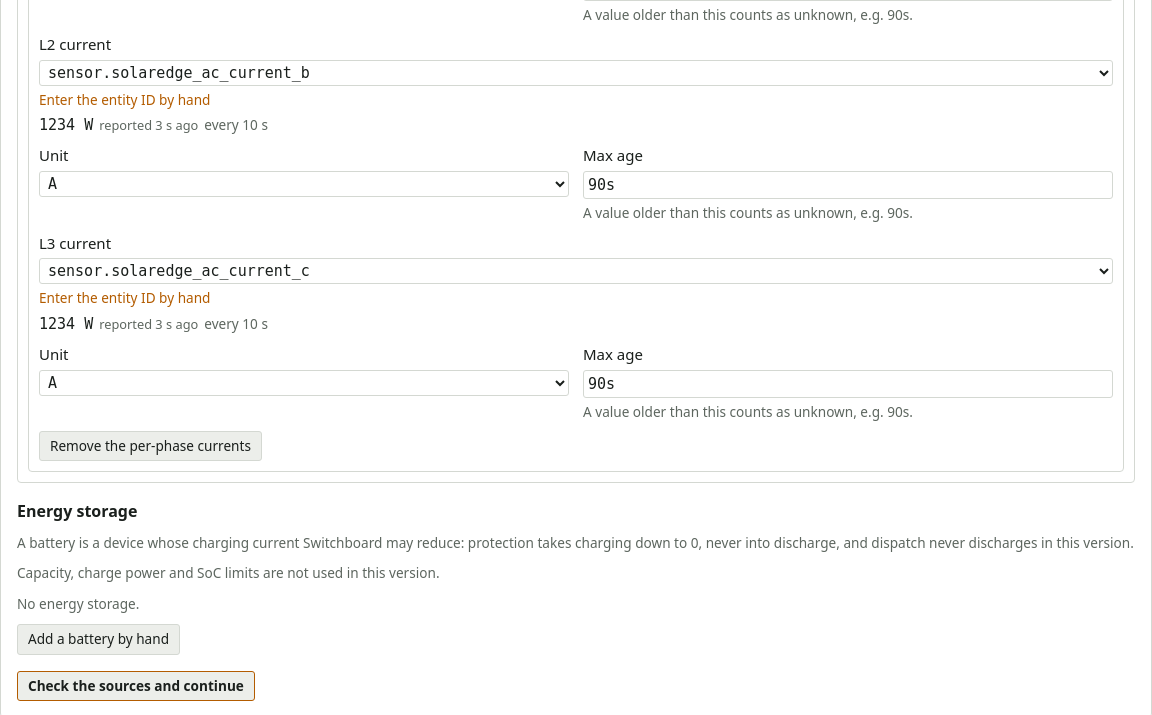
Test: check and continue › continue is refused naming the failed field
The width and height of the screenshot is (1152, 715).
(page scrolled)
Click the button "Check the sources and continue" at (136,686), box [17, 671, 255, 701]
(page scrolled)
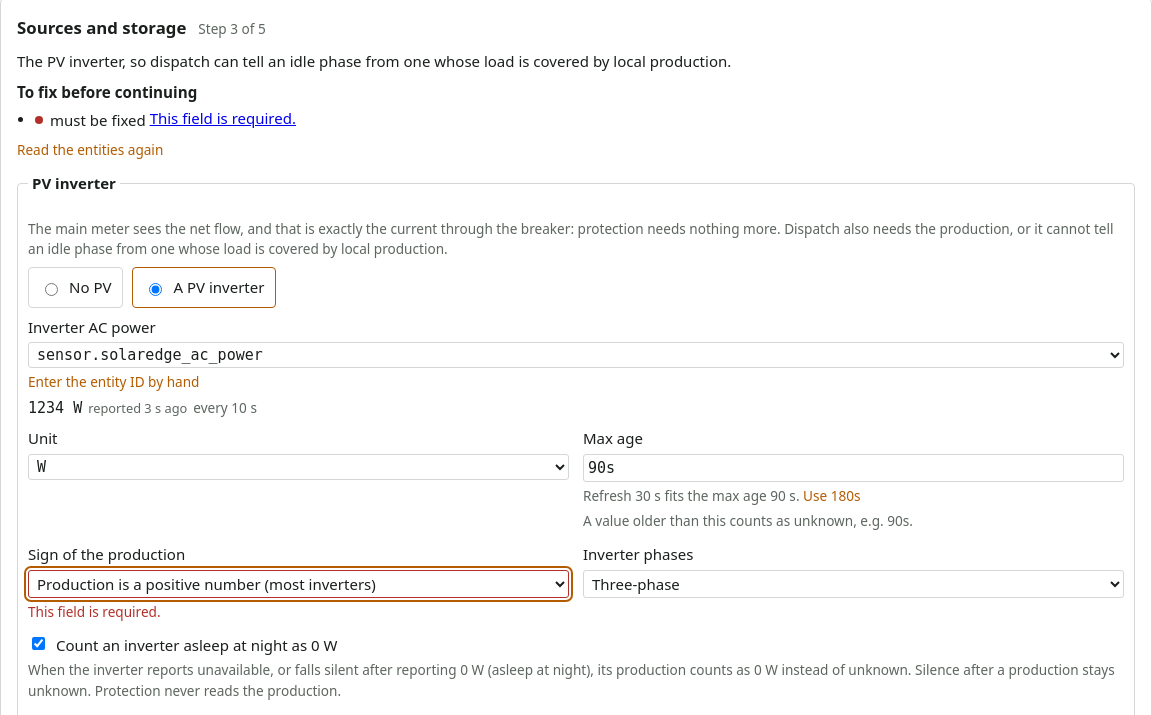
expect the list item "must be fixed This field is required." is shown: met, box [35, 108, 296, 130]
